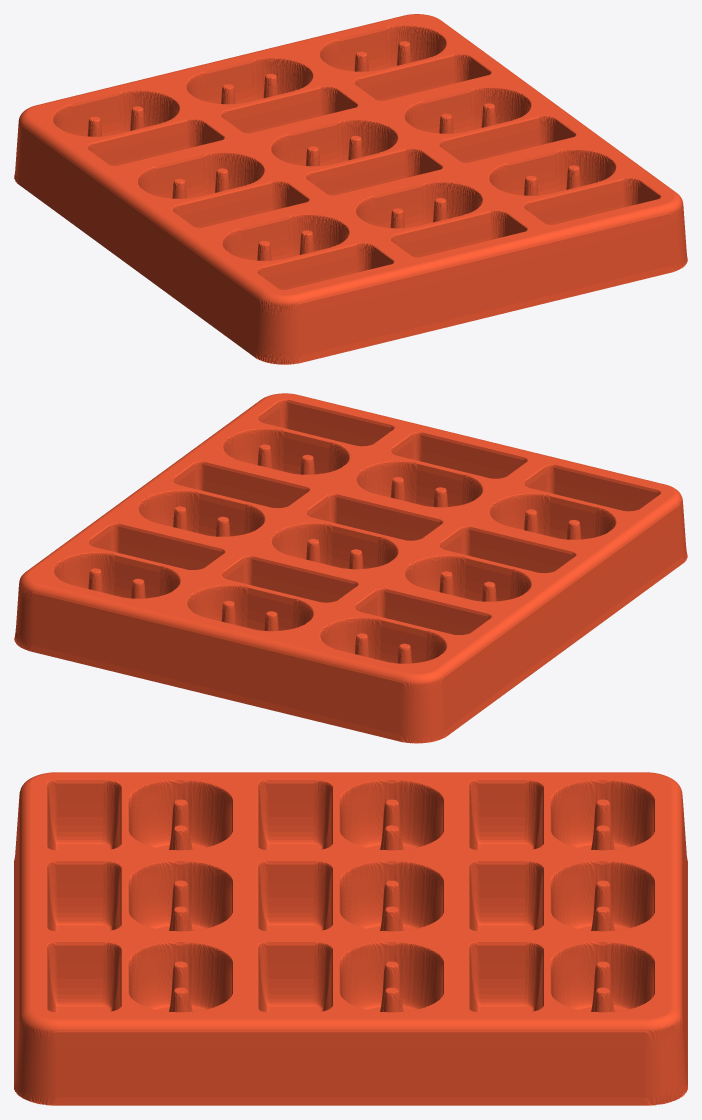
File: mold.glb
The picture shows the model from 3 angles, top to bottom: view 1: azimuth 30°, elevation 25°; view 2: azimuth 150°, elevation 25°; view 3: azimuth 270°, elevation 25°; orthographic projection. The views are drawn at different scales.
Parts seen in each view (by area): view 1: geometry_0; view 2: geometry_0; view 3: geometry_0.
Part boxes in pixels (<box>): geometry_0: <box>14,14,687,364</box>; geometry_0: <box>14,393,687,743</box>; geometry_0: <box>14,772,687,1105</box>.
Size of the model in its own units: 0.1281 by 0.0182 by 0.1402.
